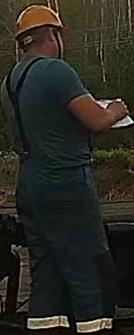helmet: (13, 4, 67, 40)
